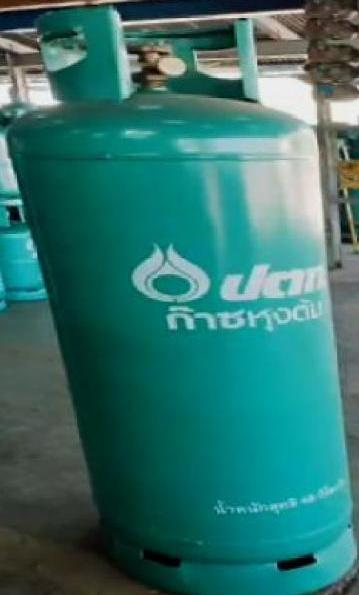cylinder: (1, 0, 359, 595)
